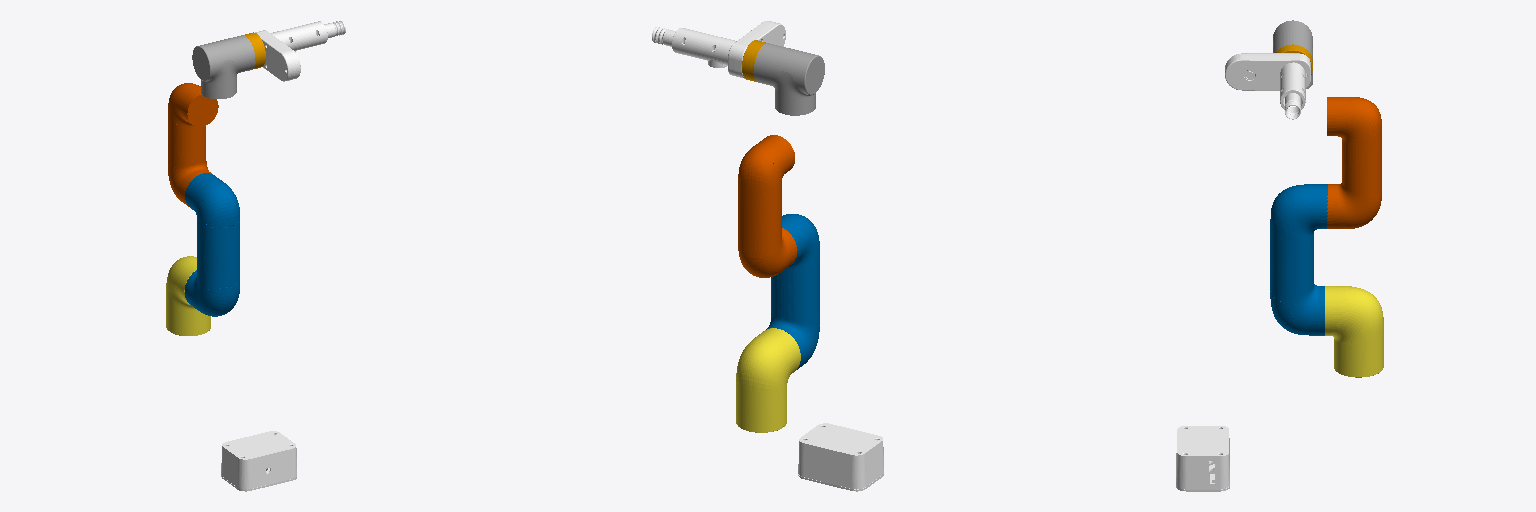
URDF robot description (firefighter):
<?xml version='1.0' encoding='utf-8'?>
<robot name="firefighter">
  <link name="g_base">
    <!-- placeholder inertial added by normalize_urdf.py - replace with CAD values -->
    <inertial>
      <origin xyz="0 0 0" rpy="0 0 0" />
      <mass value="0.1" />
      <inertia ixx="3.600e-05" ixy="0" ixz="0" iyy="3.600e-05" iyz="0" izz="3.600e-05" />
    </inertial>
    <visual>
      <geometry>
        <mesh filename="../../meshes/G_base.dae" />
      </geometry>
      <origin xyz="0.0 0 -0.03" rpy="0 0 1.5708" />
    </visual>
    <collision>
      <geometry>
        <mesh filename="../../meshes/G_base.dae" />
      </geometry>
      <origin xyz="0.0 0 -0.03" rpy="0 0 1.5708" />
    </collision>
  </link>
  <link name="pump_box">
    <!-- placeholder inertial added by normalize_urdf.py - replace with CAD values -->
    <inertial>
      <origin xyz="0 0 0" rpy="0 0 0" />
      <mass value="0.1" />
      <inertia ixx="3.600e-05" ixy="0" ixz="0" iyy="3.600e-05" iyz="0" izz="3.600e-05" />
    </inertial>
    <visual>
      <geometry>
        <mesh filename="../../meshes/pump_box.dae" />
      </geometry>
      <origin xyz="0.0 -0.15 -0.0" rpy="1.5708 3.14159 0" />
    </visual>
    <!-- collision origin aligned with visual (was copy-pasted from the mirrored link) -->
    <collision>
      <geometry>
        <mesh filename="../../meshes/pump_box.dae" />
      </geometry>
      <origin xyz="0.0 -0.15 -0.0" rpy="1.5708 3.14159 0" />
    </collision>
  </link>
  <link name="joint1">
    <!-- placeholder inertial added by normalize_urdf.py - replace with CAD values -->
    <inertial>
      <origin xyz="0 0 0" rpy="0 0 0" />
      <mass value="0.1" />
      <inertia ixx="3.600e-05" ixy="0" ixz="0" iyy="3.600e-05" iyz="0" izz="3.600e-05" />
    </inertial>
    <visual>
      <geometry>
        <!--- 0.0 0 -0.04  1.5708 3.14159-->
        <mesh filename="../../meshes/joint1_pi.dae" />
      </geometry>
      <origin xyz="0.0 0 0 " rpy=" 0 0 0" />
    </visual>
    <collision>
      <geometry>
        <!--- 0.0 0 -0.04  1.5708 3.14159-->
        <mesh filename="../../meshes/joint1_pi.dae" />
      </geometry>
      <origin xyz="0.0 0 0 " rpy=" 0 0 0" />
    </collision>
  </link>
  <link name="joint2">
    <!-- placeholder inertial added by normalize_urdf.py - replace with CAD values -->
    <inertial>
      <origin xyz="0 0 0" rpy="0 0 0" />
      <mass value="0.1" />
      <inertia ixx="3.600e-05" ixy="0" ixz="0" iyy="3.600e-05" iyz="0" izz="3.600e-05" />
    </inertial>
    <visual>
      <geometry>
        <mesh filename="../../meshes/joint2.dae" />
      </geometry>
      <origin xyz="0.0 0 -0.06096 " rpy=" 0 0 -1.5708" />
    </visual>
    <collision>
      <geometry>
        <mesh filename="../../meshes/joint2.dae" />
      </geometry>
      <origin xyz="0.0 0 -0.06096 " rpy=" 0 0 -1.5708" />
    </collision>
  </link>
  <link name="joint3">
    <!-- placeholder inertial added by normalize_urdf.py - replace with CAD values -->
    <inertial>
      <origin xyz="0 0 0" rpy="0 0 0" />
      <mass value="0.1" />
      <inertia ixx="3.600e-05" ixy="0" ixz="0" iyy="3.600e-05" iyz="0" izz="3.600e-05" />
    </inertial>
    <visual>
      <geometry>
        <mesh filename="../../meshes/joint3.dae" />
      </geometry>
      <origin xyz="0.0 0 0.03256 " rpy=" 0 -1.5708 0" />
    </visual>
    <collision>
      <geometry>
        <mesh filename="../../meshes/joint3.dae" />
      </geometry>
      <origin xyz="0.0 0 0.03256 " rpy=" 0 -1.5708 0" />
    </collision>
  </link>
  <link name="joint4">
    <!-- placeholder inertial added by normalize_urdf.py - replace with CAD values -->
    <inertial>
      <origin xyz="0 0 0" rpy="0 0 0" />
      <mass value="0.1" />
      <inertia ixx="3.600e-05" ixy="0" ixz="0" iyy="3.600e-05" iyz="0" izz="3.600e-05" />
    </inertial>
    <visual>
      <geometry>
        <!--- 0.0 0 -0.04 -->
        <mesh filename="../../meshes/joint4.dae" />
      </geometry>
      <origin xyz="0.0 0 0.03056 " rpy=" 0 -1.5708 0" />
    </visual>
    <collision>
      <geometry>
        <!--- 0.0 0 -0.04 -->
        <mesh filename="../../meshes/joint4.dae" />
      </geometry>
      <origin xyz="0.0 0 0.03056 " rpy=" 0 -1.5708 0" />
    </collision>
  </link>
  <link name="joint5">
    <!-- placeholder inertial added by normalize_urdf.py - replace with CAD values -->
    <inertial>
      <origin xyz="0 0 0" rpy="0 0 0" />
      <mass value="0.1" />
      <inertia ixx="3.600e-05" ixy="0" ixz="0" iyy="3.600e-05" iyz="0" izz="3.600e-05" />
    </inertial>
    <visual>
      <geometry>
        <!--- 0.0 0 -0.04 -->
        <mesh filename="../../meshes/joint5.dae" />
      </geometry>
      <origin xyz="0.0 -0.001 -0.0345 " rpy=" 0 -1.5708 1.5708" />
    </visual>
    <collision>
      <geometry>
        <!--- 0.0 0 -0.04 -->
        <mesh filename="../../meshes/joint5.dae" />
      </geometry>
      <origin xyz="0.0 -0.001 -0.0345 " rpy=" 0 -1.5708 1.5708" />
    </collision>
  </link>
  <link name="joint6">
    <!-- placeholder inertial added by normalize_urdf.py - replace with CAD values -->
    <inertial>
      <origin xyz="0 0 0" rpy="0 0 0" />
      <mass value="0.1" />
      <inertia ixx="3.600e-05" ixy="0" ixz="0" iyy="3.600e-05" iyz="0" izz="3.600e-05" />
    </inertial>
    <visual>
      <geometry>
        <!--- 0.0 0 -0.04 -->
        <mesh filename="../../meshes/joint6.dae" />
      </geometry>
      <origin xyz="0 0.00 -0.038 " rpy=" 0 0 0" />
    </visual>
    <collision>
      <geometry>
        <!--- 0.0 0 -0.04 -->
        <mesh filename="../../meshes/joint6.dae" />
      </geometry>
      <origin xyz="0 0.00 -0.038 " rpy=" 0 0 0" />
    </collision>
  </link>
  <link name="joint6_flange">
    <!-- placeholder inertial added by normalize_urdf.py - replace with CAD values -->
    <inertial>
      <origin xyz="0 0 0" rpy="0 0 0" />
      <mass value="0.1" />
      <inertia ixx="3.600e-05" ixy="0" ixz="0" iyy="3.600e-05" iyz="0" izz="3.600e-05" />
    </inertial>
    <visual>
      <geometry>
        <!--- 0.0 0 -0.04 -->
        <mesh filename="../../meshes/joint7.dae" />
      </geometry>
      <origin xyz="0.0 0 -0.012 " rpy=" 0 0 0" />
    </visual>
    <collision>
      <geometry>
        <!--- 0.0 0 -0.04 -->
        <mesh filename="../../meshes/joint7.dae" />
      </geometry>
      <origin xyz="0.0 0 -0.012 " rpy=" 0 0 0" />
    </collision>
  </link>
  <link name="camera_flange">
    <!-- placeholder inertial added by normalize_urdf.py - replace with CAD values -->
    <inertial>
      <origin xyz="0 0 0" rpy="0 0 0" />
      <mass value="0.1" />
      <inertia ixx="3.600e-05" ixy="0" ixz="0" iyy="3.600e-05" iyz="0" izz="3.600e-05" />
    </inertial>
    <visual>
      <geometry>
        <mesh filename="../../meshes/camera_flange.dae" />
      </geometry>
      <origin xyz="0.024 -0.008 0.0 " rpy=" 0 3.14159 0" />
    </visual>
    <collision>
      <geometry>
        <mesh filename="../../meshes/camera_flange.dae" />
      </geometry>
      <origin xyz="0.024 -0.008 0.0 " rpy=" 0 3.14159 0" />
    </collision>
  </link>
  <link name="pump_head">
    <!-- placeholder inertial added by normalize_urdf.py - replace with CAD values -->
    <inertial>
      <origin xyz="0 0 0" rpy="0 0 0" />
      <mass value="0.1" />
      <inertia ixx="3.600e-05" ixy="0" ixz="0" iyy="3.600e-05" iyz="0" izz="3.600e-05" />
    </inertial>
    <visual>
      <geometry>
        <mesh filename="../../meshes/pump_head.dae" />
      </geometry>
      <origin xyz="0.0 0.008 0.009 " rpy=" 1.5708 0 0" />
    </visual>
    <collision>
      <geometry>
        <mesh filename="../../meshes/pump_head.dae" />
      </geometry>
      <origin xyz="0.0 0.008 0.009 " rpy=" 1.5708 0 0" />
    </collision>
  </link>
  <joint name="g_base_to_joint1" type="fixed">
    <axis xyz="0 0 0" />
    <limit effort="1000.0" lower="-3.14" upper="3.14159" velocity="0" />
    <parent link="g_base" />
    <child link="joint1" />
    <origin xyz="0 0 0" rpy="0 0 0" />
  </joint>
  <joint name="g_base_to_pump_box" type="fixed">
    <axis xyz="0 0 0" />
    <limit effort="1000.0" lower="-3.14" upper="3.14159" velocity="0" />
    <parent link="g_base" />
    <child link="pump_box" />
    <origin xyz="0 0 0" rpy="0 0 0" />
  </joint>
  <joint name="joint2_to_joint1" type="revolute">
    <axis xyz="0 0 1" />
    <limit effort="1000.0" lower="-2.9322" upper="2.9322" velocity="2" />
    <parent link="joint1" />
    <child link="joint2" />
    <origin xyz="0 0 0.13956" rpy="0 0 0" />
  </joint>
  <joint name="joint3_to_joint2" type="revolute">
    <axis xyz="0 0 1" />
    <limit effort="1000.0" lower="-2.3562" upper="2.3562" velocity="2" />
    <parent link="joint2" />
    <child link="joint3" />
    <origin xyz="0 0 -0.001" rpy="0 1.5708 -1.5708" />
  </joint>
  <joint name="joint4_to_joint3" type="revolute">
    <axis xyz=" 0 0 1" />
    <limit effort="1000.0" lower="-2.618" upper="2.618" velocity="2" />
    <parent link="joint3" />
    <child link="joint4" />
    <origin xyz="  -0.1104 0 0   " rpy="0 0 0" />
  </joint>
  <joint name="joint5_to_joint4" type="revolute">
    <axis xyz=" 0 0 1" />
    <limit effort="1000.0" lower="-2.5307" upper="2.5307" velocity="2" />
    <parent link="joint4" />
    <child link="joint5" />
    <origin xyz="-0.096 0 0.06462" rpy="0 0 -1.5708" />
  </joint>
  <joint name="joint6_to_joint5" type="revolute">
    <axis xyz="0 0 1" />
    <limit effort="1000.0" lower="-2.8798" upper="2.8798" velocity="2" />
    <parent link="joint5" />
    <child link="joint6" />
    <origin xyz="0 -0.07318 -0.001" rpy="1.5708 -1.5708 0" />
  </joint>
  <joint name="joint6output_to_joint6" type="revolute">
    <axis xyz="0 0 1" />
    <limit effort="1000.0" lower="-3.14159" upper="3.14159" velocity="2" />
    <parent link="joint6" />
    <child link="joint6_flange" />
    <origin xyz="0 0.0456 0" rpy="-1.5708 0 0" />
  </joint>
  <joint name="joint6output_to_camera_flange" type="fixed">
    <!-- <axis xyz="0 0 1"/>
    <limit effort = "1000.0" lower = "-3.14" upper = "3.14159" velocity = "0"/> -->
    <parent link="joint6_flange" />
    <child link="camera_flange" />
    <!-- <origin xyz= "0 0.0 0" rpy = "-1.5708 0 0"/>   -->
    <origin xyz="0 0 0.01" rpy="1.579 0 0" />
  </joint>
  <joint name="joint6output_to_pump_head" type="fixed">
    <!-- <axis xyz="0 0 1"/>
    <limit effort = "1000.0" lower = "-3.14" upper = "3.14159" velocity = "0"/> -->
    <parent link="camera_flange" />
    <child link="pump_head" />
    <!-- <origin xyz= "0 0.0 0" rpy = "-1.5708 0 0"/>   -->
    <origin xyz="0 0 0.01" rpy="-1.579 0 0" />
  </joint>
</robot>

--- Facts derived from the render (not from the file) ---
Views: 3 orthographic renders of the robot side by side, from view 1: azimuth 30°, elevation 25°; view 2: azimuth 150°, elevation 25°; view 3: azimuth 270°, elevation 25°.
Model firefighter with 11 links and 10 joints (6 revolute, 4 fixed), rooted at g_base, posed all joints at 0.
Visible links, largest first — view 1: joint3, joint4, pump_box, joint6, joint2, pump_head, camera_flange; view 2: joint4, joint2, joint3, pump_box, joint6, pump_head, camera_flange; view 3: joint3, joint4, joint2, pump_box, camera_flange, pump_head, joint6.
Link boxes in pixels (x1,y1,x2,y2): joint3: [185, 173, 239, 316]; joint4: [168, 83, 218, 206]; pump_box: [221, 431, 296, 491]; joint6: [192, 35, 255, 98]; joint2: [166, 256, 210, 335]; pump_head: [271, 21, 345, 51]; camera_flange: [255, 30, 300, 81]; joint4: [738, 135, 797, 277]; joint2: [736, 328, 800, 432]; joint3: [766, 214, 819, 369]; pump_box: [798, 423, 883, 491]; joint6: [753, 43, 824, 115]; pump_head: [652, 27, 735, 67]; camera_flange: [728, 21, 785, 78]; joint3: [1270, 184, 1327, 335]; joint4: [1327, 97, 1381, 228]; joint2: [1325, 286, 1383, 377]; pump_box: [1176, 426, 1229, 491]; camera_flange: [1225, 53, 1310, 90]; pump_head: [1280, 63, 1305, 119]; joint6: [1273, 20, 1312, 88].
Size in the robot's own frame: 0.1878 by 0.2 by 0.4743 metres.
Meshes: 11 distinct files referenced, 8 mesh visuals loaded (8 Collada DAE); not drawn: 3 (reference not matched to a file when rendering).
